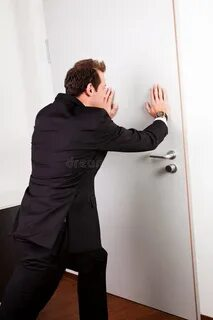awake: (1, 58, 169, 320)
